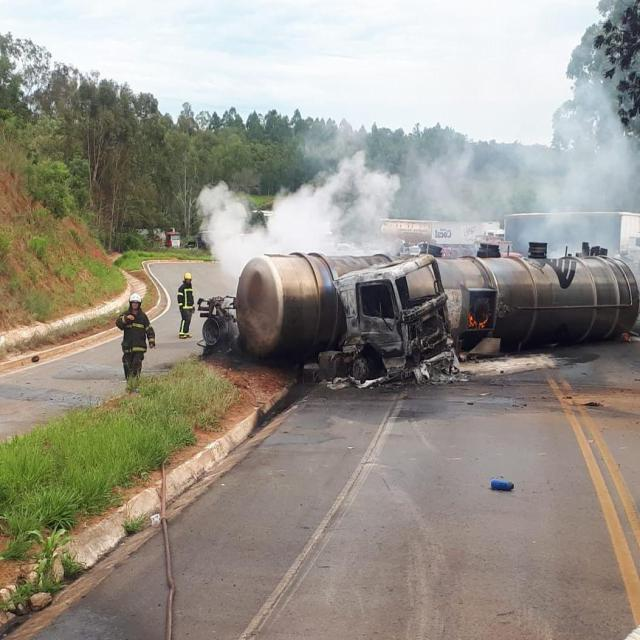Fire: (466, 314, 492, 328)
